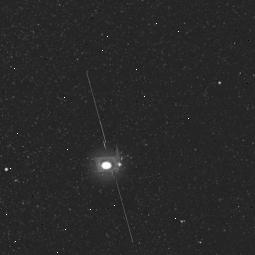smart_1: (67, 69, 157, 255)
